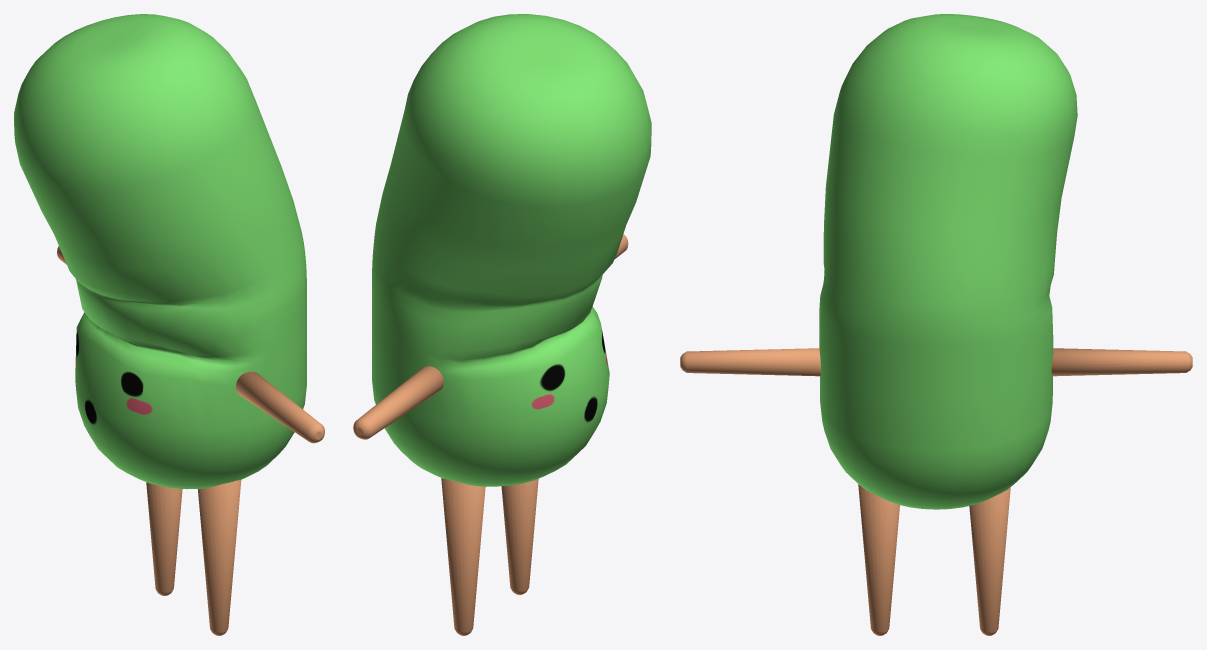
Rendered from beanboi4.glb.
3 renders of one model, left to right at view 1: azimuth 30°, elevation 25°; view 2: azimuth 150°, elevation 25°; view 3: azimuth 270°, elevation 25°, orthographic. The views are drawn at different scales.
Parts seen in each view (by area): view 1: Cylinder.003, leg.001, leg, arm.001; view 2: Cylinder.003, leg, leg.001, arm; view 3: Cylinder.003, leg.001, leg, arm, arm.001.
Part boxes in pixels (box(x1,y1,x2,y2)): Cylinder.003: box(14, 14, 306, 489); leg.001: box(198, 480, 241, 635); leg: box(146, 482, 182, 595); arm.001: box(236, 371, 324, 443); Cylinder.003: box(372, 14, 651, 486); leg: box(441, 478, 485, 635); leg.001: box(501, 479, 538, 594); arm: box(353, 366, 443, 439); Cylinder.003: box(819, 14, 1077, 509); leg.001: box(858, 484, 899, 635); leg: box(969, 487, 1010, 635); arm: box(1051, 348, 1192, 376); arm.001: box(680, 348, 820, 376).
Bounding box in the file's own units: 5.32 × 11.85 × 9.37.
2 materials, 1 textured.
